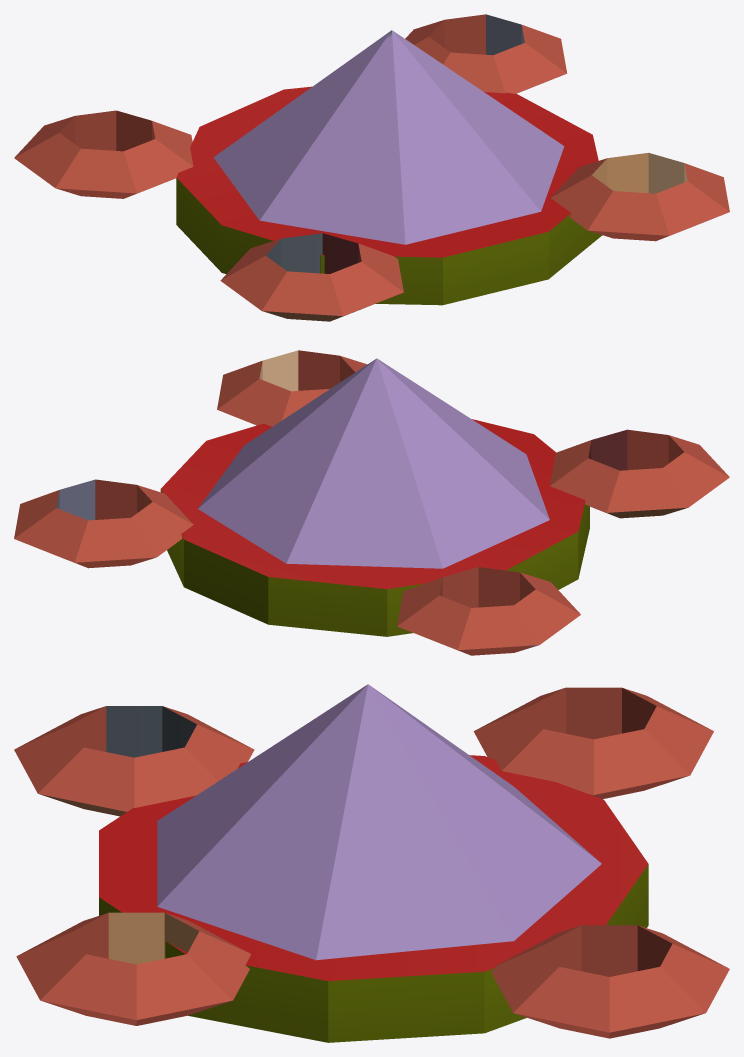
File: DRONNNN.fbx
3 renders of one model, top to bottom at view 1: azimuth 30°, elevation 25°; view 2: azimuth 150°, elevation 25°; view 3: azimuth 270°, elevation 25°, orthographic. The views are drawn at different scales.
Parts seen in each view (by area): view 1: Cone; view 2: Cone; view 3: Cone.
Part boxes in pixels (x1,y1,x2,y2): Cone: (14, 14, 729, 321); Cone: (14, 350, 729, 655); Cone: (14, 684, 729, 1042).
Size of the model in its own units: 284 by 94.99 by 255.
